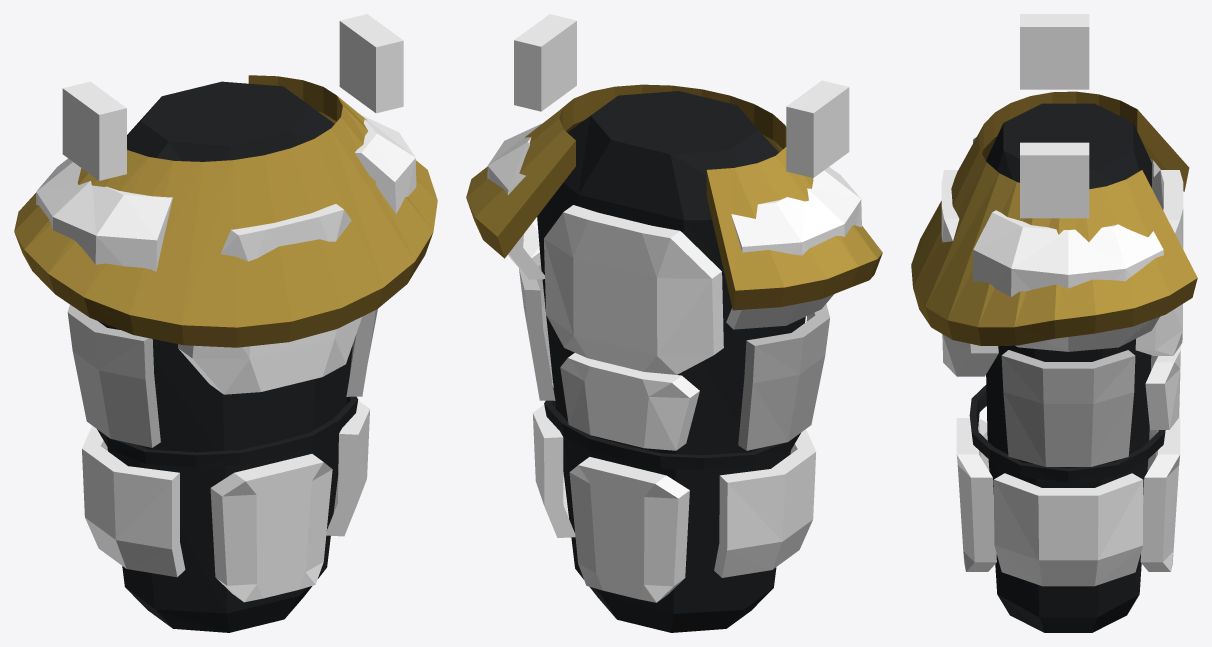
Rendered from person_thin_armor_marine_prestige.obj.
3 renders of one model, left to right at view 1: azimuth 30°, elevation 25°; view 2: azimuth 150°, elevation 25°; view 3: azimuth 270°, elevation 25°, orthographic. The views are drawn at different scales.
Visible parts, largest first — view 1: person_thin_armor_marine_prestige, person_thin_armor_marine_prestige_addons; view 2: person_thin_armor_marine_prestige, person_thin_armor_marine_prestige_addons; view 3: person_thin_armor_marine_prestige, person_thin_armor_marine_prestige_addons.
Part boxes in pixels (box(x1,y1,x2,y2)): person_thin_armor_marine_prestige: box(36, 81, 416, 632); person_thin_armor_marine_prestige_addons: box(14, 14, 437, 347); person_thin_armor_marine_prestige: box(487, 91, 861, 632); person_thin_armor_marine_prestige_addons: box(466, 14, 882, 310); person_thin_armor_marine_prestige: box(941, 103, 1183, 632); person_thin_armor_marine_prestige_addons: box(911, 14, 1197, 345).
Bounding box in the file's own units: 0.6168 × 0.825 × 0.4137.
